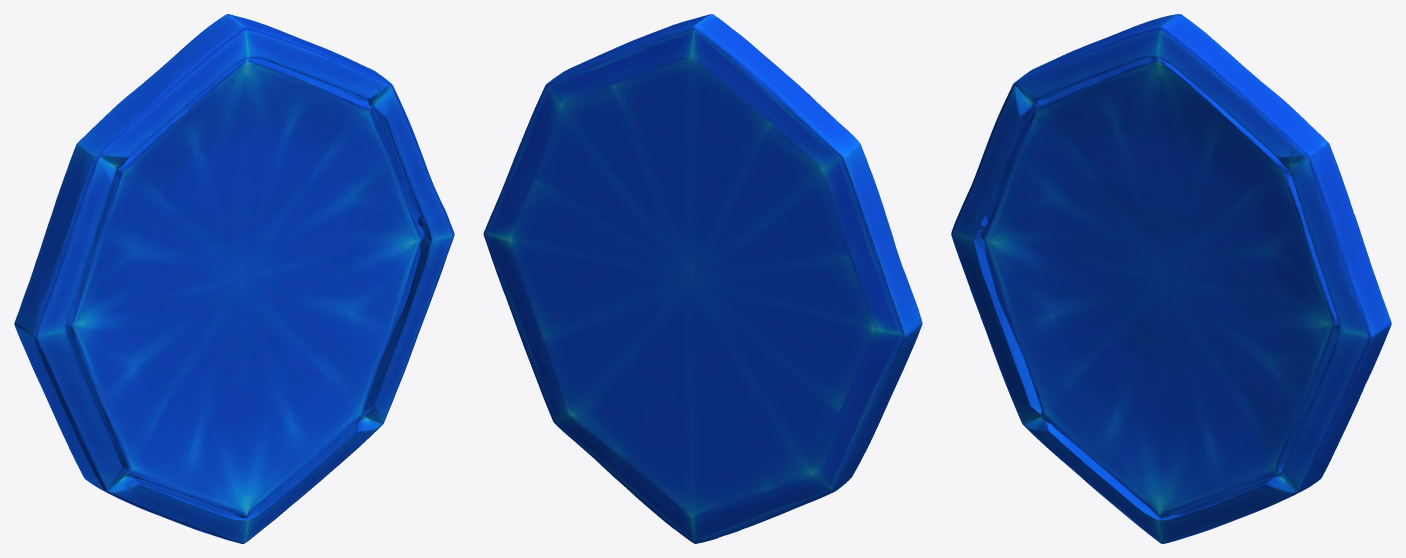
File: sym-gem.glb
The picture shows the model from 3 angles, left to right: view 1: azimuth 30°, elevation 25°; view 2: azimuth 150°, elevation 25°; view 3: azimuth 330°, elevation 25°; orthographic projection.
Visible parts, largest first — view 1: Mesh_0; view 2: Mesh_0; view 3: Mesh_0.
Boxes of the visible parts, x1,y1,x2,y2 form: Mesh_0: (14, 14, 454, 543); Mesh_0: (483, 14, 922, 543); Mesh_0: (951, 14, 1391, 543).
Size of the model in its own units: 1.63 by 1.9 by 0.1722.
1 material, 1 textured.
